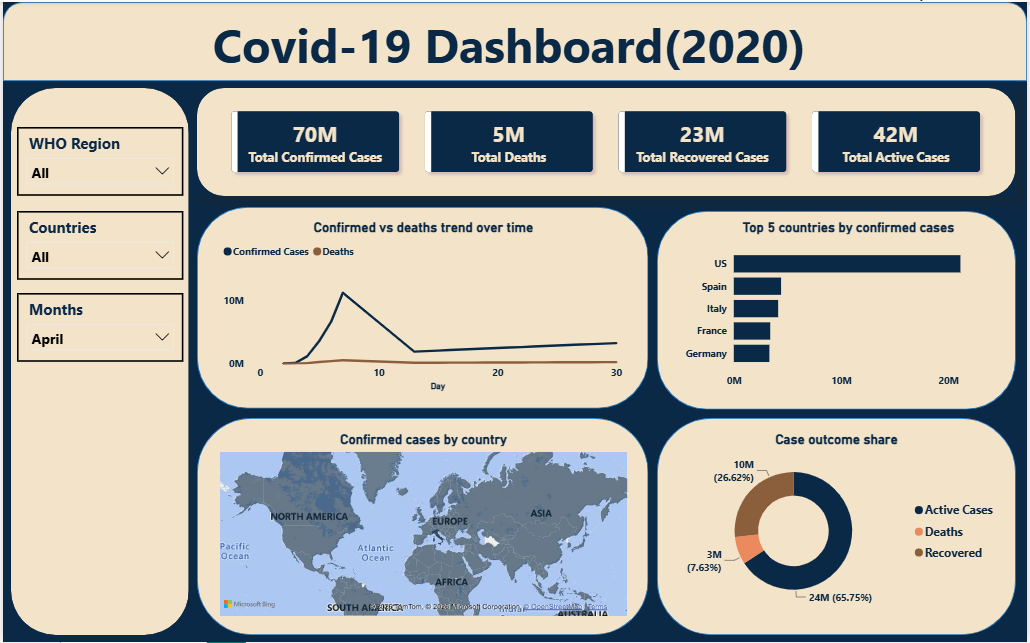

The dashboard page shown, as its layout file describes it:
{"tool":"powerbi","page":{"name":"Executive Overview","canvas":[1280,800],"ordinal":0},"visuals":[{"type":"shape","box":[0,0,1280,99],"z":0},{"type":"textbox","box":[0,9,1265.9,90],"z":1000},{"type":"shape","box":[242.9,108,1023,134.9],"z":2000},{"type":"cardVisual","fields":{"Data":["Sum(covid_19 covid_19.confirmed)","Sum(covid_19 covid_19.deaths)","Sum(covid_19 covid_19.recovered)","Sum(covid_19 covid_19.active)"]},"box":[255.7,108,994.7,134.9],"z":3000},{"type":"shape","box":[242.9,255.7,564.2,251.9],"z":4000},{"type":"shape","box":[242.9,520.5,564.2,271.2],"z":5000},{"type":"lineChart","title":"Confirmed vs deaths trend over time","fields":{"Y":["Sum(covid_19 covid_19.confirmed)","Sum(covid_19 covid_19.deaths)"],"Category":["covid_19 covid_19.Month.Variation.Date Hierarchy.Day"]},"box":[269.9,271.2,511.5,219.8],"z":6000},{"type":"filledMap","title":"Confirmed cases by country","fields":{"Category":["covid_19 covid_19.country_region"]},"box":[266,535.9,519.2,236.5],"z":7000},{"type":"shape","box":[817.3,260.9,448.5,248],"z":8000},{"type":"clusteredBarChart","title":"Top 5 countries by confirmed cases","fields":{"Y":["Sum(covid_19 covid_19.confirmed)"],"Category":["covid_19 covid_19.country_region"]},"box":[846.9,271.2,419,219.8],"z":9000},{"type":"shape","box":[817.3,520.5,448.5,271.2],"z":10000},{"type":"shape","box":[10.3,108,222.3,683.7],"z":11000},{"type":"donutChart","title":"Case outcome share","fields":{"Y":["Sum(covid_19 covid_19.active)","Sum(covid_19 covid_19.deaths)","Sum(covid_19 covid_19.recovered)"]},"box":[832.8,535.9,419,228.8],"z":12000},{"type":"slicer","fields":{"Values":["covid_19 covid_19.who_region"]},"box":[18,156.8,208.2,86.1],"z":12001},{"type":"slicer","fields":{"Values":["covid_19 covid_19.country_region"]},"box":[18,260.9,208.2,86.1],"z":12002},{"type":"slicer","fields":{"Values":["covid_19 covid_19.Month.Variation.Date Hierarchy.Month"]},"box":[18,363.7,208.2,86.1],"z":12003}]}

Visuals, with their boxes in screenshot pixels (x1, y1, x2, y2), scaled from the page's 1280x800 canvas onto the 1030x643 screenshot:
shape: Rect(0, 0, 1029, 80)
textbox: Rect(0, 7, 1019, 80)
shape: Rect(195, 87, 1019, 195)
cardVisual - Sum(covid_19 covid_19.confirmed) x Sum(covid_19 covid_19.deaths): Rect(206, 87, 1006, 195)
shape: Rect(195, 206, 649, 408)
shape: Rect(195, 418, 649, 636)
"Confirmed vs deaths trend over time" lineChart: Rect(217, 218, 629, 395)
"Confirmed cases by country" filledMap: Rect(214, 431, 632, 621)
shape: Rect(658, 210, 1019, 409)
"Top 5 countries by confirmed cases" clusteredBarChart: Rect(681, 218, 1019, 395)
shape: Rect(658, 418, 1019, 636)
shape: Rect(8, 87, 187, 636)
"Case outcome share" donutChart: Rect(670, 431, 1007, 615)
slicer - covid_19 covid_19.who_region: Rect(14, 126, 182, 195)
slicer - covid_19 covid_19.country_region: Rect(14, 210, 182, 279)
slicer - covid_19 covid_19.Month.Variation.Date Hierarchy.Month: Rect(14, 292, 182, 362)
